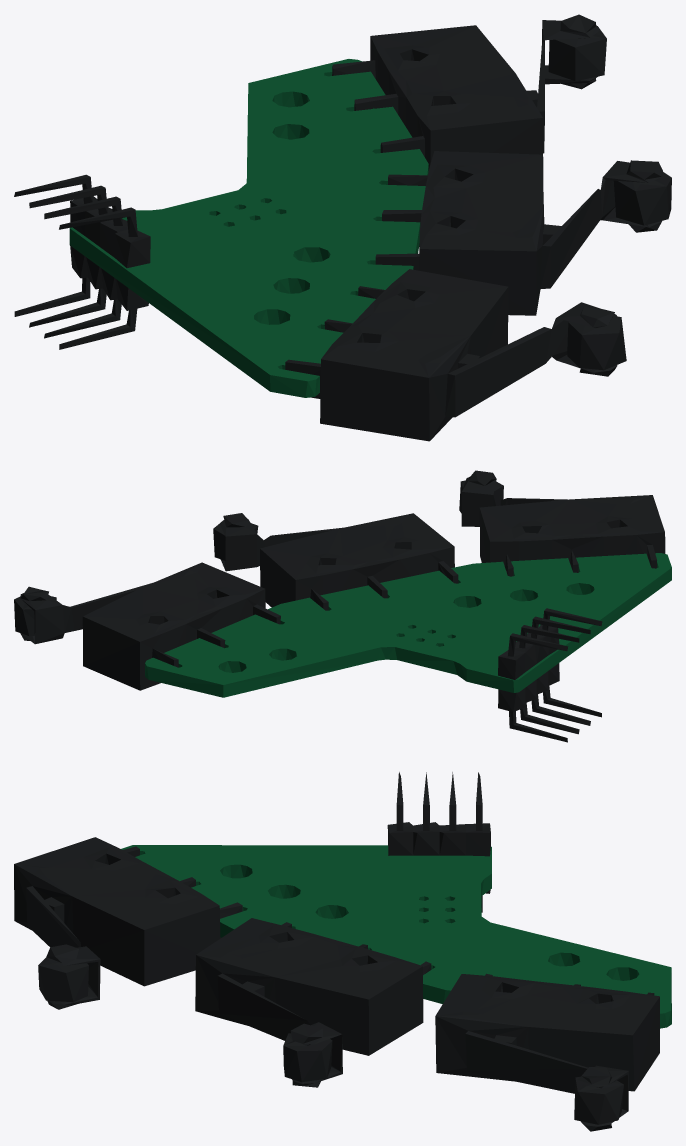
The model's file is bumper.glb.
3 views of the same model, one above another, from view 1: azimuth 30°, elevation 25°; view 2: azimuth 150°, elevation 25°; view 3: azimuth 270°, elevation 25° (orthographic). The views are drawn at different scales.
Parts seen in each view (by area): view 1: mesh_rubber_and_chip_3, mesh_pcb_3; view 2: mesh_rubber_and_chip_3, mesh_pcb_3; view 3: mesh_rubber_and_chip_3, mesh_pcb_3.
Boxes of the visible parts, bbox=[...] form: mesh_rubber_and_chip_3: bbox=[14, 14, 671, 441]; mesh_pcb_3: bbox=[69, 59, 428, 397]; mesh_rubber_and_chip_3: bbox=[14, 470, 665, 742]; mesh_pcb_3: bbox=[145, 553, 671, 697]; mesh_rubber_and_chip_3: bbox=[14, 772, 659, 1131]; mesh_pcb_3: bbox=[121, 845, 671, 1028].
Size of the model in its own units: 0.6437 by 0.1177 by 0.6324.
